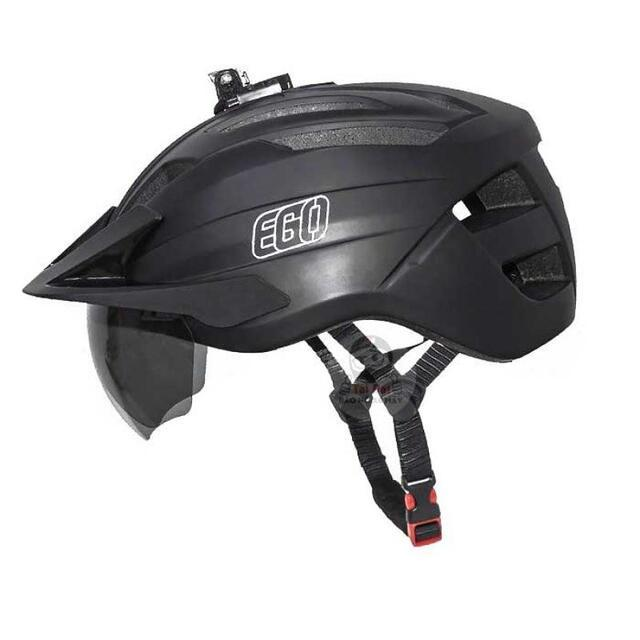helmet: (21, 81, 577, 440)
